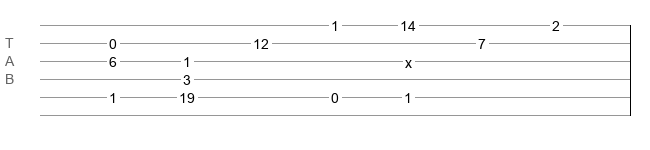0: (109, 36, 117, 46), (331, 90, 339, 100)
1: (109, 90, 117, 100), (183, 54, 191, 64), (331, 18, 339, 28), (404, 90, 412, 100)
12: (253, 36, 269, 46)
14: (400, 18, 416, 28)
19: (179, 90, 195, 100)
2: (552, 18, 560, 28)
3: (183, 72, 191, 82)
6: (109, 54, 117, 64)
7: (478, 36, 486, 46)
x: (405, 55, 412, 63)
